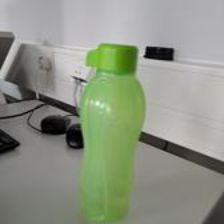bottle: (70, 40, 147, 224)
